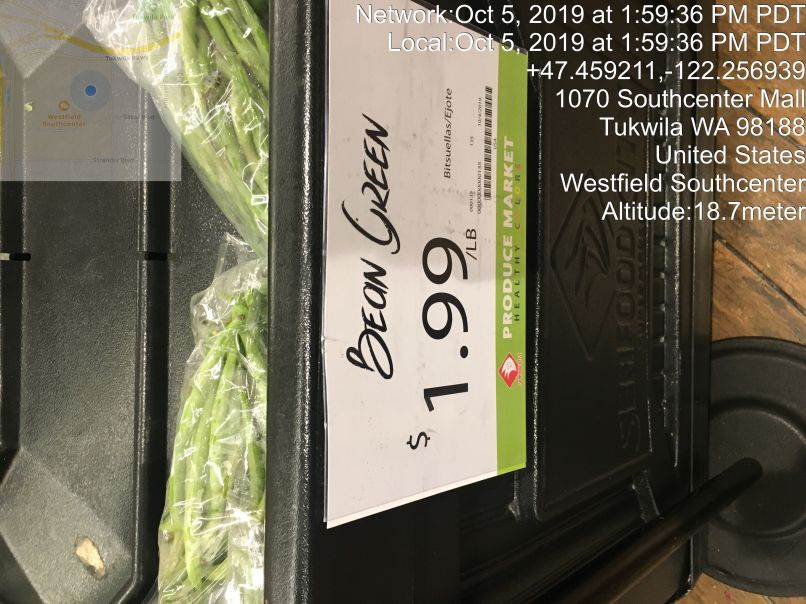Label: (316, 22, 565, 530)
Location: (547, 84, 806, 197)
Time: (349, 1, 806, 60)
bean green: (78, 1, 280, 246), (149, 262, 287, 604)
